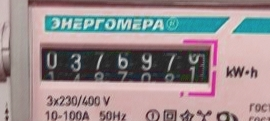0: (44, 49, 57, 69)
1: (186, 64, 197, 82)
3: (68, 51, 81, 71)
6: (115, 48, 128, 69)
7: (91, 49, 104, 70), (163, 50, 175, 72)
9: (139, 50, 151, 71)
screen: (31, 34, 221, 97)
